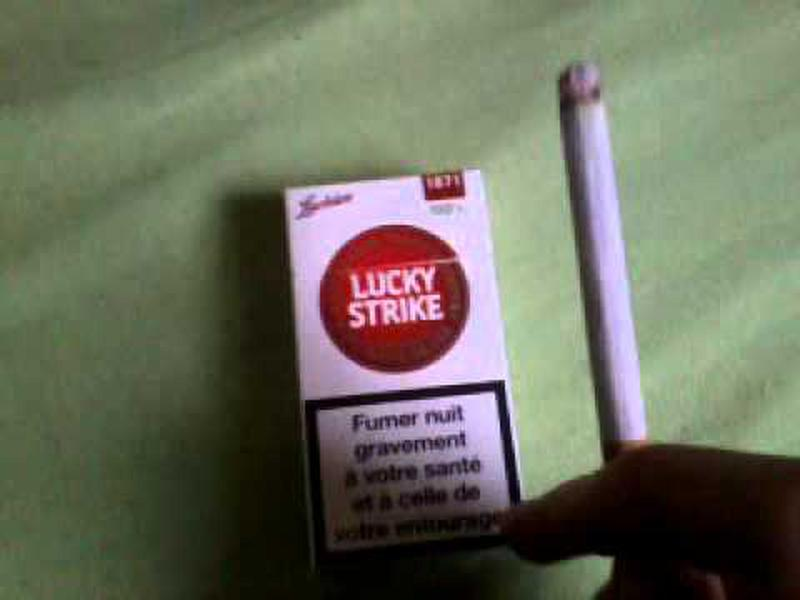lucky_strike_red: (309, 184, 494, 536)
